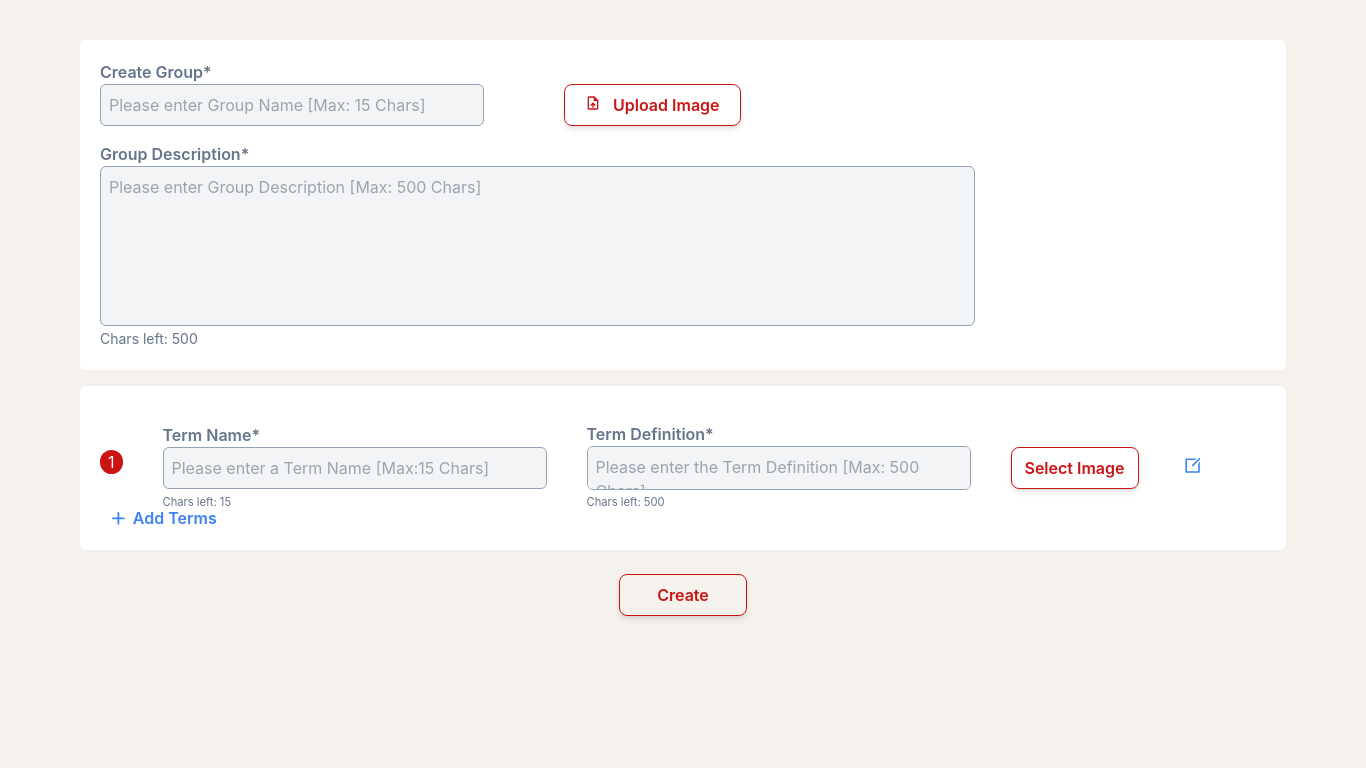
Test case: Create New Flashcard - Required Check › Should show warnings on fields that are not filled
Type "Test Name" into the field with placeholder "Please enter Group Name [Max: 15 Chars]" at (292, 105), box [100, 84, 484, 126]
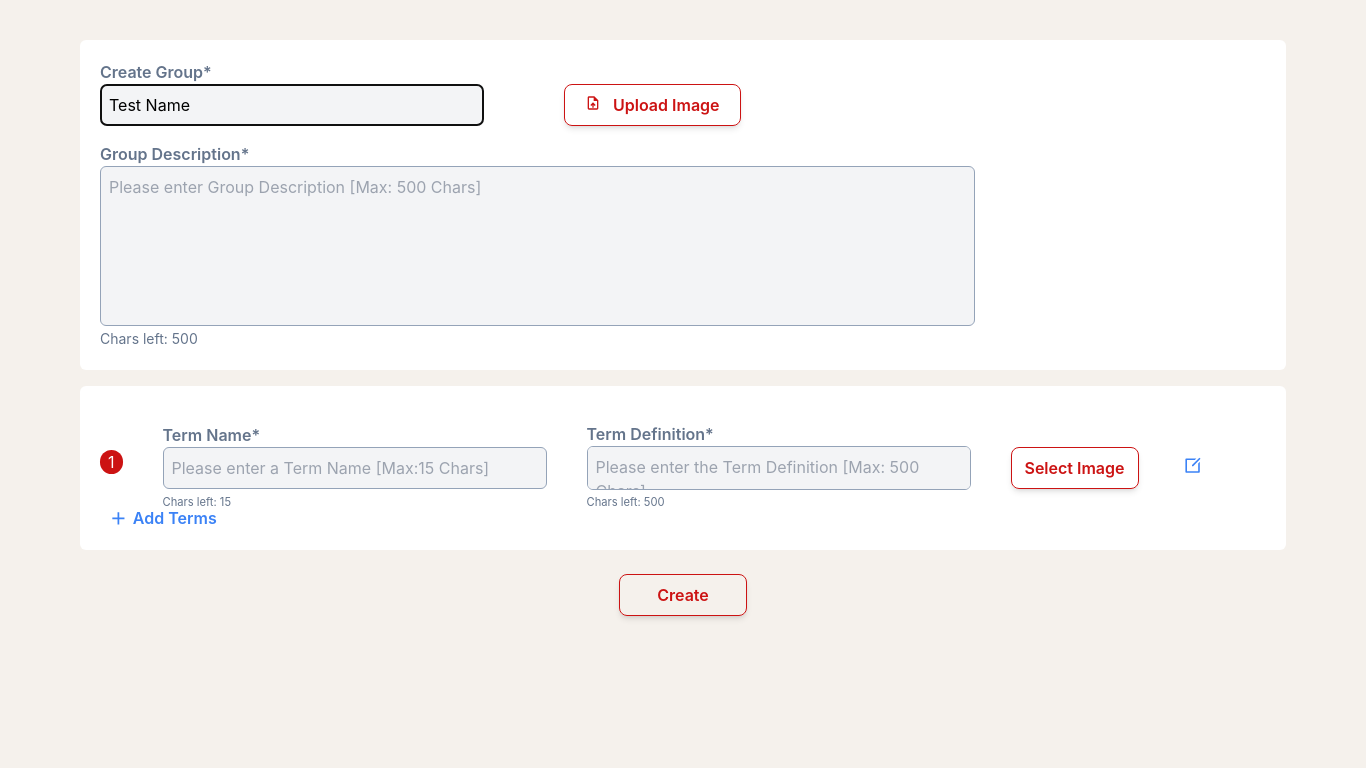
Type "Lo" into the text box with placeholder "Please enter Group Description [Max: 500 Chars]" at (537, 246), box [100, 166, 974, 326]
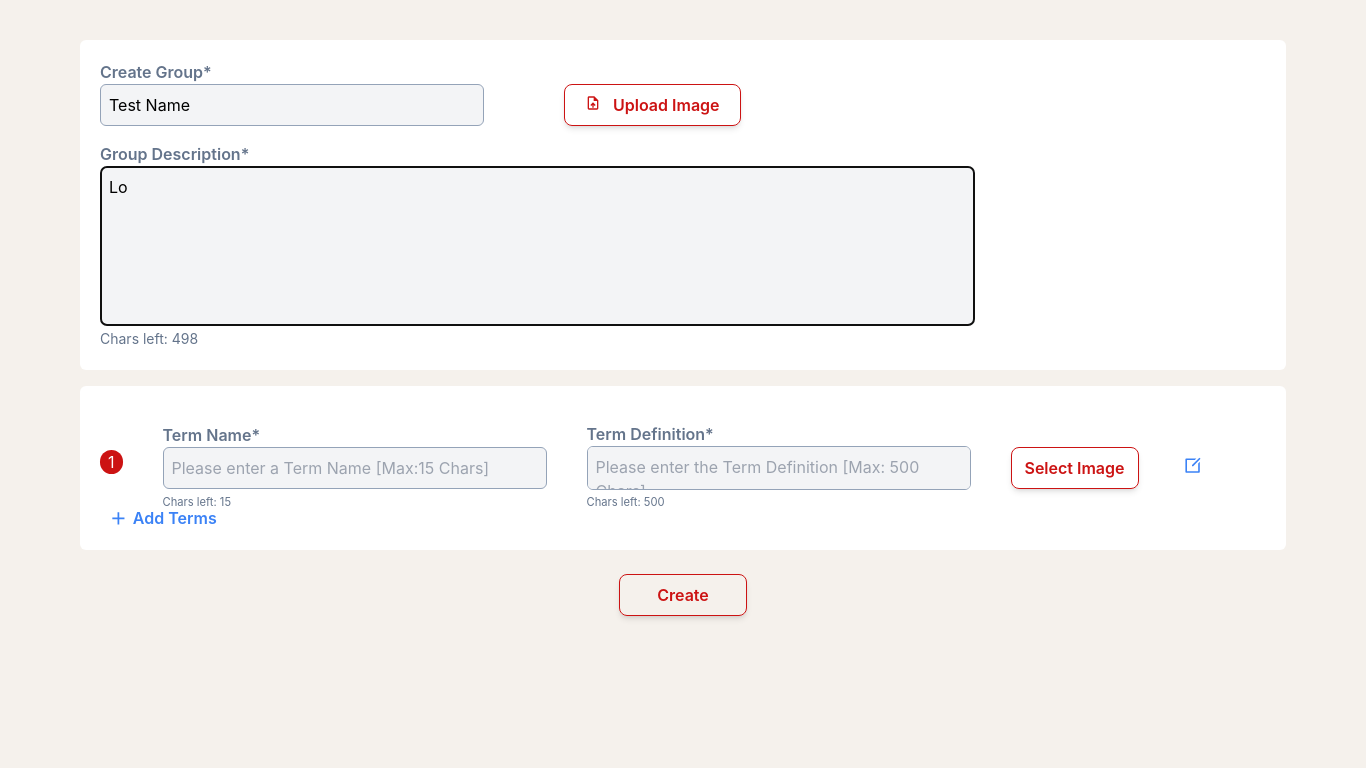
Type "Test Term Name" into the field with placeholder "Please enter a Term Name [Max:15 Chars]" at (354, 468), box [162, 447, 546, 489]
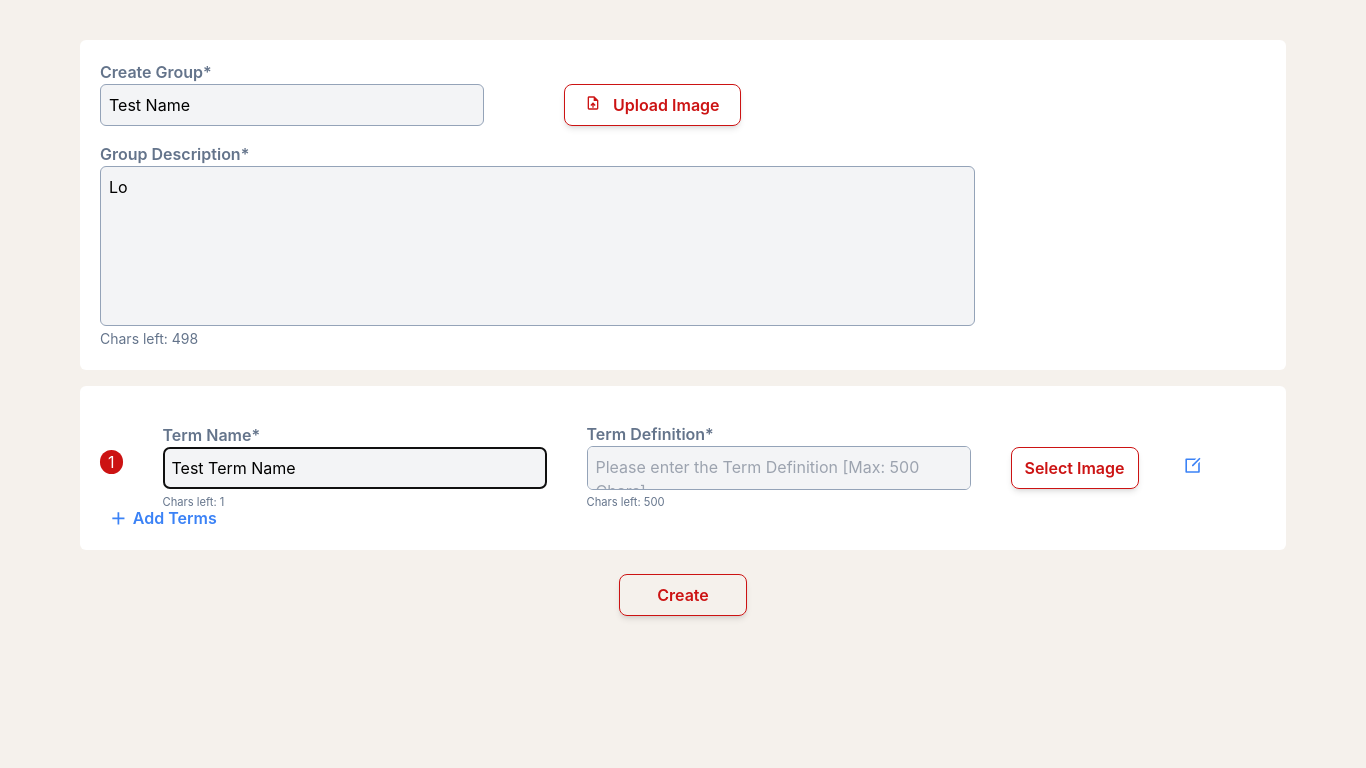
Type "Lorem ipsum dolor sit amet consectetur adipisicing elit. Quam, odit." into the text box with placeholder "Please enter the Term Definition [Max: 500 Chars]" at (778, 468), box [586, 446, 970, 490]
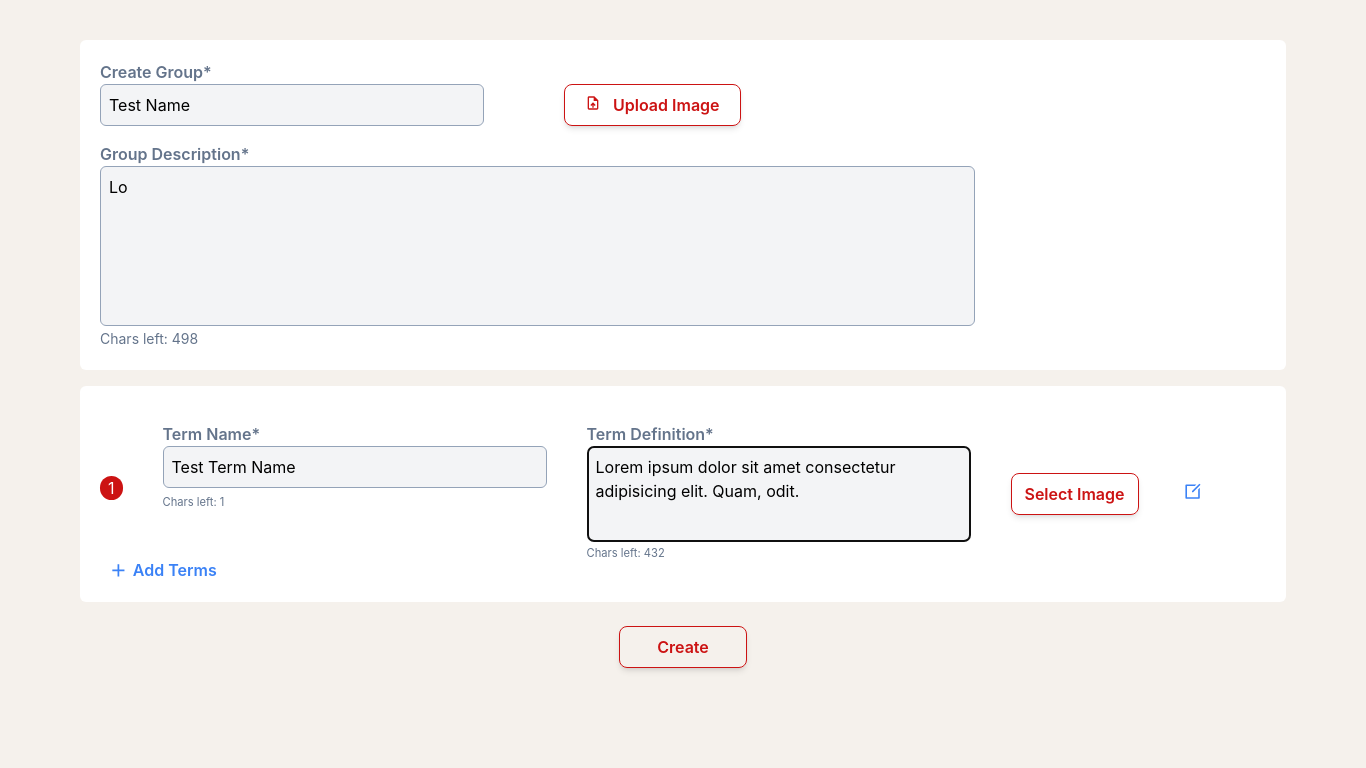
Click the button with test id "create" at (683, 647), box [619, 626, 747, 668]
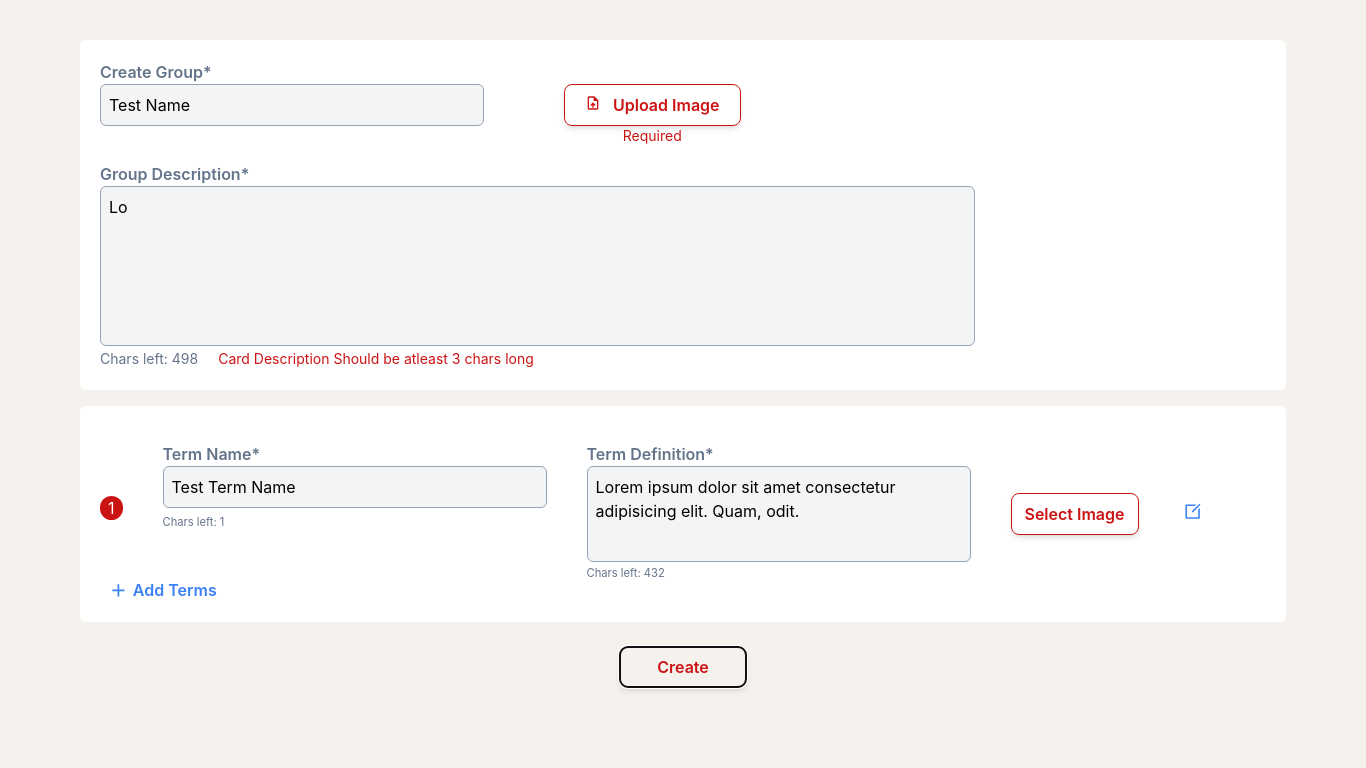
Expected: the text "Card Description Should be atleast 3 chars long" is shown, [218, 350, 534, 367]
